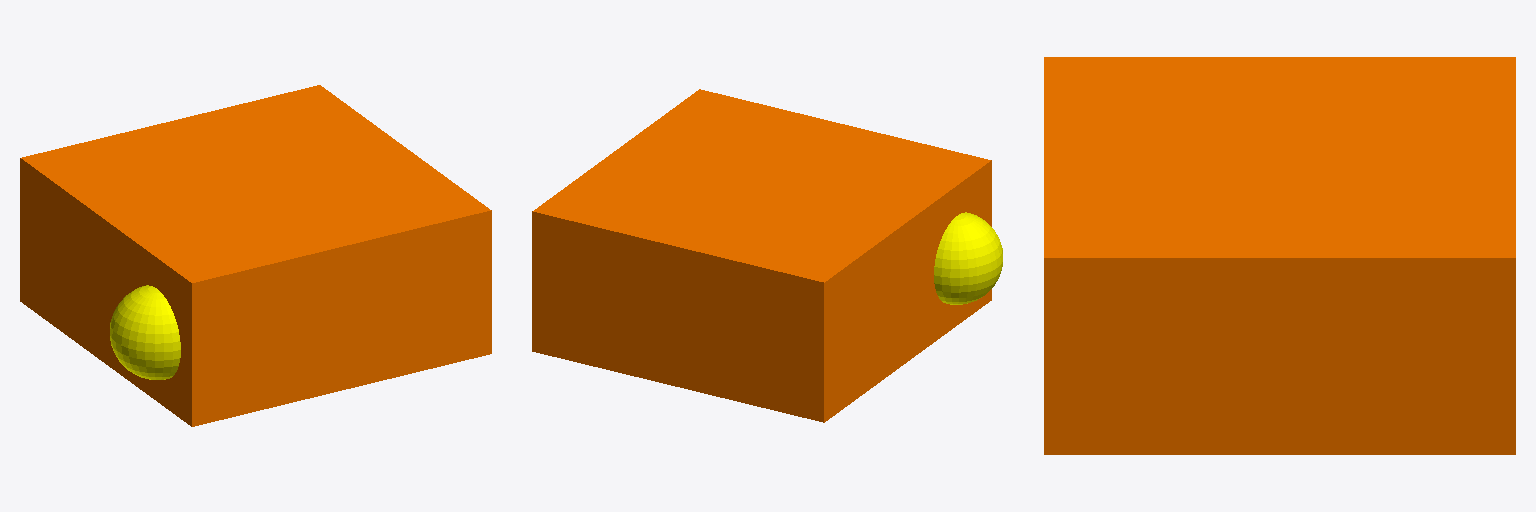
robot.urdf — TestShapes:
<?xml version="1.0" ?>
<!-- @file Krang.urdf -->
<!-- @author [author] -->
<!-- @date May 19, 2013 -->
<!-- @brief This file contains the .urdf definition for Krang with no dae files but only -->
<!-- bounding boxes for the dae files except the wheels (for fast loading in 05-fr). -->
<!-- TODO: Set the center of mass locations -->
<!-- TODO: Set the correct masses. Note that the dae models have the brackets divided in two and -->
<!-- connected to the middle motor for which we do not have measurements. -->
<!-- NOTE: The bounding box values are taken by finding the min and max values of the dae files. -->

<robot name="TestShapes">

	<!-- ======================================================================================================== -->
	<!-- ============================================ Links ===================================================== -->
	<!-- ======================================================================================================== -->

	<link name = "Sphere"> 
    <inertial>
      <mass value="4.66"/>
      <inertia ixx="0.102019" ixy="2.45462e-05" ixz="0.00713022" iyy="0.0832724" iyz="-0.00131733" izz="0.086493"/>
      <origin xyz="0 0 0"/>
    </inertial>
		<visual>
      <geometry>
        <sphere radius=".1"/>
      </geometry>
      <material name="yellow">
        <color rgba="1 1 0 1"/>
      </material>
    </visual>
	</link>


	<link name = "Box"> 
    <inertial>
      <mass value="86.5"/>
      <inertia ixx="0.102019" ixy="2.45462e-05" ixz="0.00713022" iyy="0.0832724" iyz="-0.00131733" izz="0.086493"/>
      <origin xyz="0 0 0"/>
    </inertial>
		<visual> 
			<origin xyz="0.00225 0.2097395 0.006300"/>
      <geometry>
        <box size="0.7165 0.71048 0.32860"/>
      </geometry>
      <material name="orange">
        <color rgba="1 .5 0 1"/>
      </material>
		</visual> 
	</link>

	<!-- ======================================================================================================== -->
	<!-- ============================================ Joints ==================================================== -->
	<!-- ======================================================================================================== -->

	<joint name="sphereBox" type="revolute"> <parent link="Box" /> <child link="Sphere" />
		<origin xyz = "-0.354 0.0 0" rpy="0 0 0" />
		<axis xyz="1 0 0" /> <limit effort="1000" lower="-3.1416" upper="3.1416" velocity="0.1" />
	</joint>

</robot>

--- Facts derived from the render (not from the file) ---
Views: 3 orthographic renders of the robot side by side, from view 1: azimuth 30°, elevation 25°; view 2: azimuth 150°, elevation 25°; view 3: azimuth 270°, elevation 25°.
Model TestShapes with 2 links and 1 joints (1 revolute), rooted at Box, posed every joint at zero.
Visible links, largest first — view 1: Box, Sphere; view 2: Box, Sphere; view 3: Box.
Boxes of the visible links, x1=… form: Box: x1=20, y1=85, x2=491, y2=426; Sphere: x1=110, y1=285, x2=180, y2=379; Box: x1=532, y1=89, x2=991, y2=422; Sphere: x1=934, y1=212, x2=1002, y2=304; Box: x1=1044, y1=57, x2=1515, y2=454.
Bounding box of the posed robot: 0.8145 × 0.7105 × 0.3286 m (x, y, z).
Geometry: primitives only (box / cylinder / sphere), no mesh files.